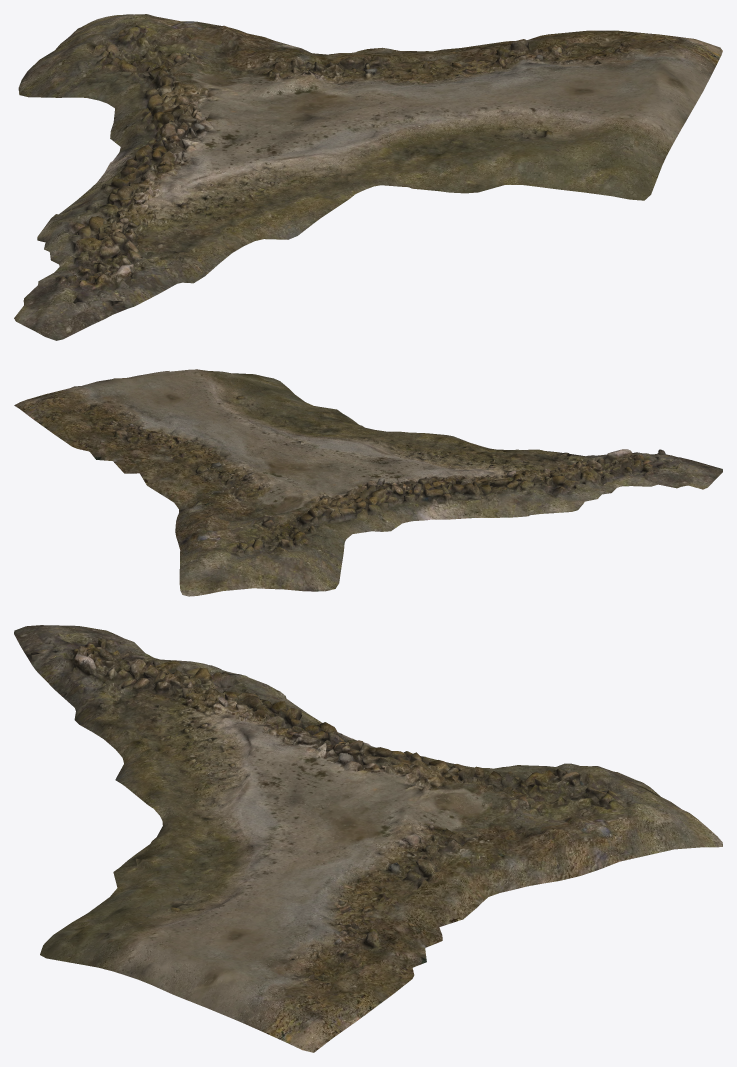
File: rocks.gltf
The picture shows the model from 3 angles, top to bottom: view 1: azimuth 30°, elevation 25°; view 2: azimuth 150°, elevation 25°; view 3: azimuth 270°, elevation 25°; orthographic projection. The views are drawn at different scales.
Visible parts, largest first — view 1: coast_rocks_01; view 2: coast_rocks_01; view 3: coast_rocks_01.
Boxes of the visible parts, x1,y1,x2,y2 form: coast_rocks_01: (14, 14, 722, 340); coast_rocks_01: (14, 369, 722, 596); coast_rocks_01: (14, 625, 722, 1052).
Size of the model in its own units: 59.51 by 3.28 by 42.51.
1 material, 1 textured.
